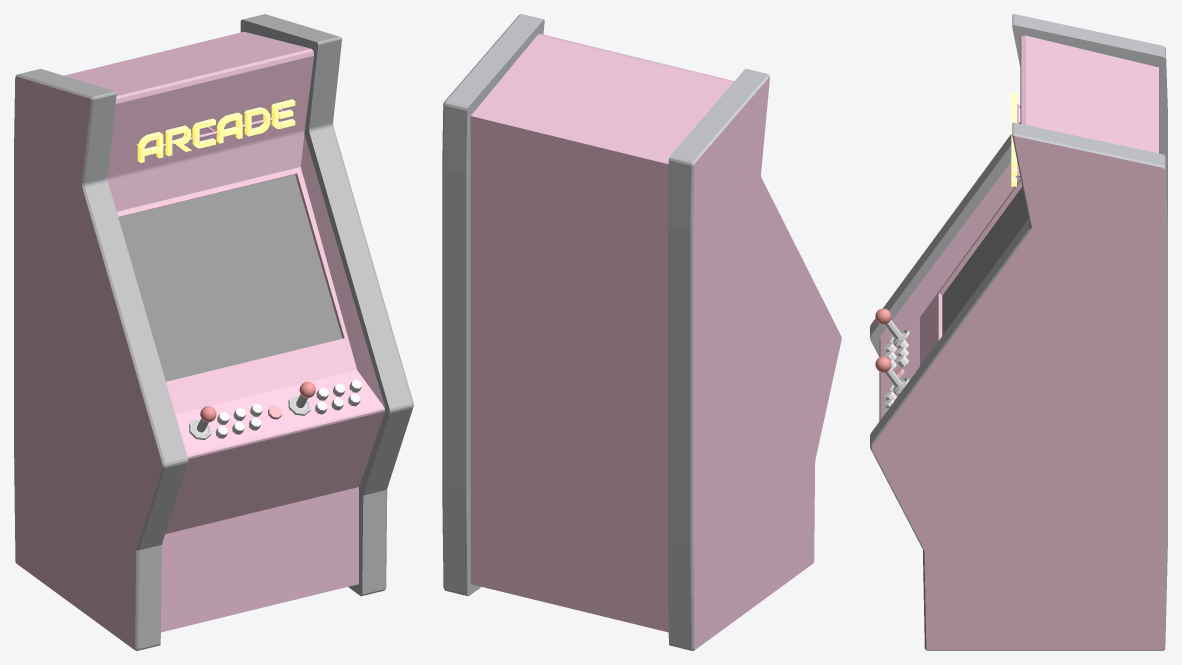
File: Arcade.fbx
The picture shows the model from 3 angles, left to right: view 1: azimuth 30°, elevation 25°; view 2: azimuth 150°, elevation 25°; view 3: azimuth 270°, elevation 25°; orthographic projection.
Parts seen in each view (by area): view 1: Arcade, Screen, Lettering, R.buttons, L.buttons, R.joystick, L.joystick; view 2: Arcade; view 3: Arcade, Screen, L.buttons, L.joystick, R.joystick, Lettering.
Boxes of the visible parts, x1,y1,x2,y2 form: Arcade: [14, 14, 413, 650]; Screen: [118, 174, 342, 381]; Lettering: [137, 99, 295, 162]; R.buttons: [315, 379, 361, 414]; L.buttons: [215, 404, 262, 438]; R.joystick: [288, 382, 315, 415]; L.joystick: [189, 406, 216, 439]; Arcade: [442, 14, 841, 650]; Arcade: [870, 14, 1167, 650]; Screen: [942, 187, 1028, 335]; L.buttons: [883, 339, 908, 369]; L.joystick: [875, 308, 909, 345]; R.joystick: [875, 356, 909, 393]; Lettering: [1011, 92, 1016, 186].
Bounding box in the file's own units: 113 × 224 × 117.
